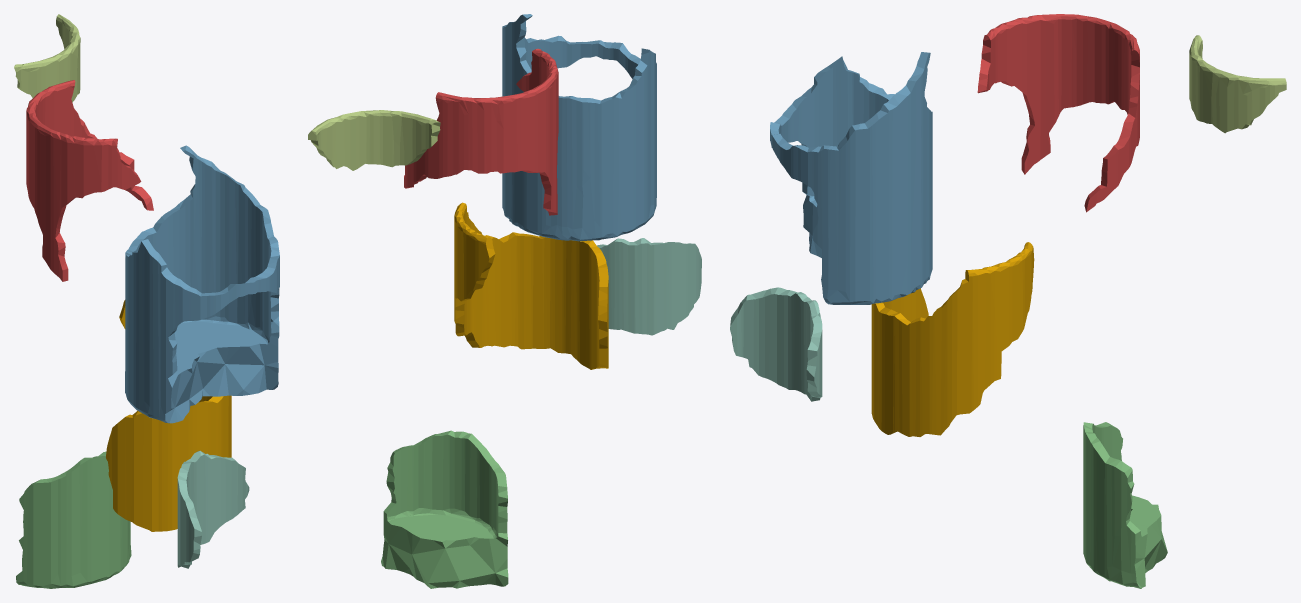
Rendered from mode_8_6pcs_transformed.glb.
The picture shows the model from 3 angles, left to right: view 1: azimuth 30°, elevation 25°; view 2: azimuth 150°, elevation 25°; view 3: azimuth 270°, elevation 25°; orthographic projection. The views are drawn at different scales.
Parts seen in each view (by area): view 1: piece_2.obj, piece_3.obj, piece_1.obj, piece_0.obj, piece_4.obj, piece_5.obj; view 2: piece_2.obj, piece_0.obj, piece_3.obj, piece_1.obj, piece_4.obj, piece_5.obj; view 3: piece_2.obj, piece_0.obj, piece_1.obj, piece_3.obj, piece_4.obj, piece_5.obj.
Part boxes in pixels (box(x1,y1,x2,y2)): piece_2.obj: box(125, 145, 279, 423); piece_3.obj: box(16, 451, 131, 588); piece_1.obj: box(26, 80, 153, 281); piece_0.obj: box(106, 300, 231, 531); piece_4.obj: box(177, 450, 249, 568); piece_5.obj: box(14, 14, 80, 102); piece_2.obj: box(502, 14, 656, 241); piece_0.obj: box(454, 202, 608, 369); piece_3.obj: box(381, 430, 508, 588); piece_1.obj: box(404, 48, 558, 215); piece_4.obj: box(597, 238, 701, 335); piece_5.obj: box(308, 110, 440, 170); piece_2.obj: box(770, 52, 932, 304); piece_0.obj: box(871, 242, 1034, 436); piece_1.obj: box(977, 14, 1139, 212); piece_3.obj: box(1083, 422, 1167, 588); piece_4.obj: box(730, 287, 822, 401); piece_5.obj: box(1189, 35, 1286, 133).
Bounding box in the file's own units: 0.4605 × 1.61 × 1.58.
